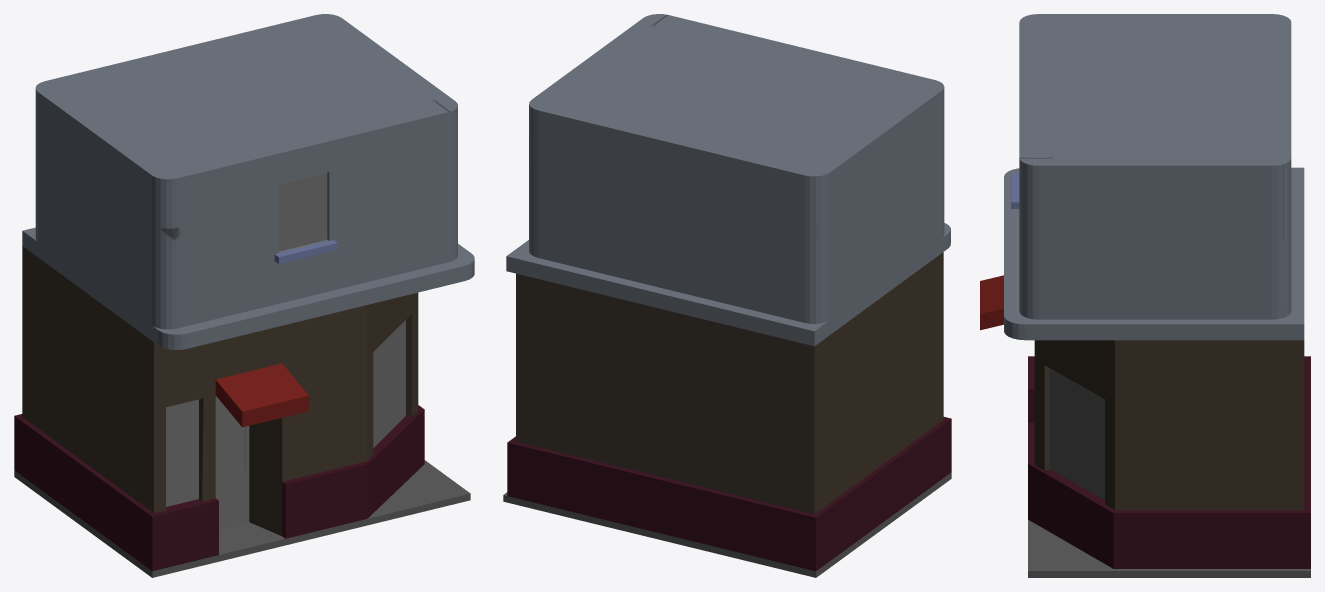
Rendered from Restaurante 1_4.1.fbx.
The picture shows the model from 3 angles, left to right: view 1: azimuth 30°, elevation 25°; view 2: azimuth 150°, elevation 25°; view 3: azimuth 270°, elevation 25°; orthographic projection. The views are drawn at different scales.
Visible parts, largest first — view 1: Andar superior, Terreo, Tijolo, Entreandares, Chão, Lona, Porta entrada, Janela Andar Superior, Janela 1, Janela 1.001, Parapeito; view 2: Andar superior, Terreo, Tijolo, Entreandares, Chão; view 3: Andar superior, Terreo, Tijolo, Entreandares, Janela 1.001, Chão, Lona.
Part boxes in pixels (<box>): Andar superior: <box>35,14,457,329</box>; Terreo: <box>22,246,418,535</box>; Tijolo: <box>14,405,424,571</box>; Entreandares: <box>22,227,474,349</box>; Chão: <box>14,460,470,577</box>; Lona: <box>215,363,308,427</box>; Porta entrada: <box>215,396,249,530</box>; Janela Andar Superior: <box>279,173,327,251</box>; Janela 1: <box>166,399,198,506</box>; Janela 1.001: <box>373,320,405,447</box>; Parapeito: <box>274,240,337,263</box>; Andar superior: <box>529,14,944,323</box>; Terreo: <box>516,252,943,514</box>; Tijolo: <box>507,417,951,571</box>; Entreandares: <box>506,223,950,346</box>; Chão: <box>503,472,951,577</box>; Andar superior: <box>1019,14,1291,319</box>; Terreo: <box>1034,340,1304,510</box>; Tijolo: <box>1028,356,1310,568</box>; Entreandares: <box>1004,167,1304,340</box>; Janela 1.001: <box>1050,368,1104,499</box>; Chão: <box>1028,519,1310,577</box>; Lona: <box>980,275,1003,330</box>.
Bounding box in the file's own units: 839 × 1001 × 737.
